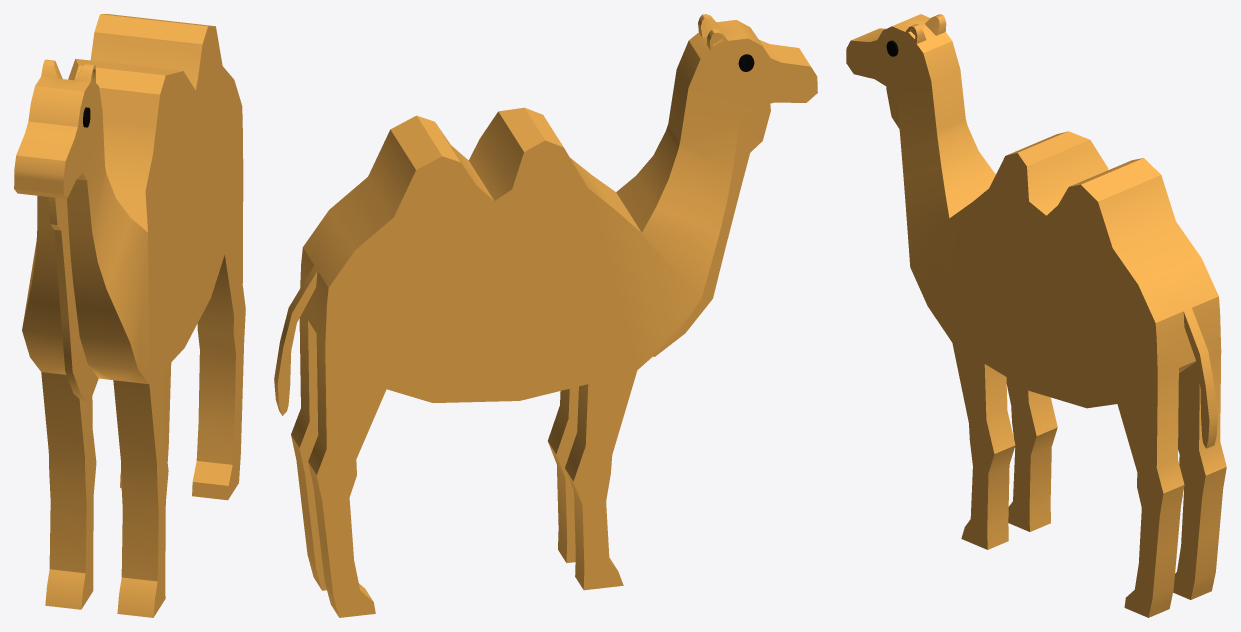
File: two_hump_camel.glb
3 views of the same model, side by side, from view 1: azimuth 30°, elevation 25°; view 2: azimuth 150°, elevation 25°; view 3: azimuth 270°, elevation 25° (orthographic). The views are drawn at different scales.
Visible parts, largest first — view 1: Plane.127; view 2: Plane.127; view 3: Plane.127.
Part boxes in pixels (x1,y1,x2,y2): Plane.127: (14,14,245,617); Plane.127: (274,14,817,617); Plane.127: (846,14,1226,617).
Size of the model in its own units: 1.53 by 2.11 by 1.53.
1 material, 1 textured.
